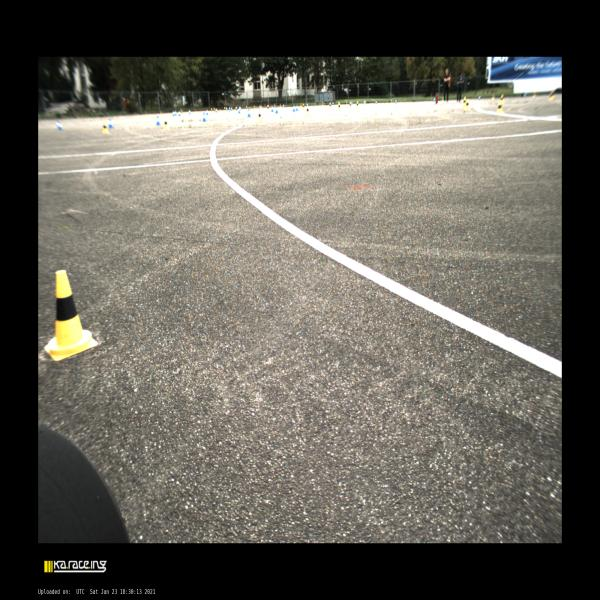blue_cone: (155, 115, 161, 126), (201, 112, 207, 121), (108, 118, 113, 128), (247, 108, 252, 117), (57, 121, 62, 130), (292, 104, 296, 112), (295, 104, 299, 111), (271, 105, 274, 112), (178, 110, 181, 117), (172, 111, 175, 116), (276, 106, 278, 113), (175, 110, 177, 116), (206, 109, 208, 115), (238, 108, 240, 114), (478, 96, 481, 100), (215, 107, 217, 112), (306, 103, 308, 107), (351, 101, 353, 105), (363, 100, 365, 104), (375, 100, 377, 104), (524, 94, 526, 98), (332, 102, 334, 105), (189, 109, 190, 114), (240, 106, 241, 111), (231, 107, 232, 111), (283, 104, 284, 108), (434, 98, 435, 102), (226, 107, 227, 110), (229, 107, 230, 110), (396, 100, 397, 103)
yellow_cone: (45, 270, 97, 362), (496, 101, 503, 115), (163, 118, 169, 130), (102, 123, 109, 133), (464, 100, 470, 110), (548, 91, 554, 101), (305, 106, 310, 116), (462, 96, 466, 106), (258, 112, 262, 121), (501, 94, 504, 104), (349, 101, 352, 109), (356, 100, 359, 108), (532, 91, 536, 97), (302, 103, 305, 110), (329, 102, 332, 109), (492, 94, 495, 100), (338, 102, 340, 110), (210, 107, 212, 113), (246, 106, 248, 112), (267, 105, 269, 111), (346, 101, 348, 107), (213, 108, 215, 113), (235, 107, 237, 112), (254, 105, 256, 110), (300, 103, 302, 108), (322, 102, 324, 107), (442, 96, 444, 101), (259, 105, 261, 109), (365, 100, 366, 106), (390, 100, 392, 103), (274, 104, 275, 109), (261, 105, 262, 109), (280, 104, 281, 108), (224, 107, 225, 110)
